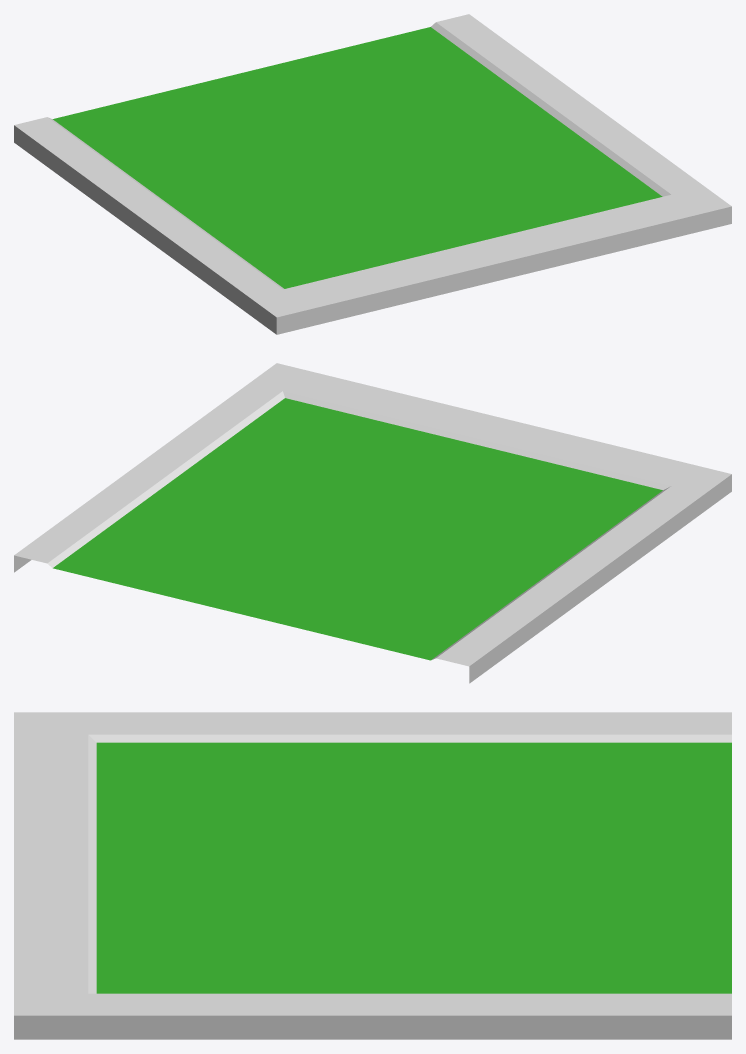
File: GrassBed_1_B_6.fbx
3 renders of one model, top to bottom at view 1: azimuth 30°, elevation 25°; view 2: azimuth 150°, elevation 25°; view 3: azimuth 270°, elevation 25°, orthographic. The views are drawn at different scales.
Parts seen in each view (by area): view 1: GrassBed_1_B_6; view 2: GrassBed_1_B_6; view 3: GrassBed_1_B_6.
Part boxes in pixels (<box>): GrassBed_1_B_6: <box>14,14,731,334</box>; GrassBed_1_B_6: <box>14,363,731,683</box>; GrassBed_1_B_6: <box>14,712,731,1039</box>.
Bounding box in the file's own units: 200 × 7.32 × 200.
